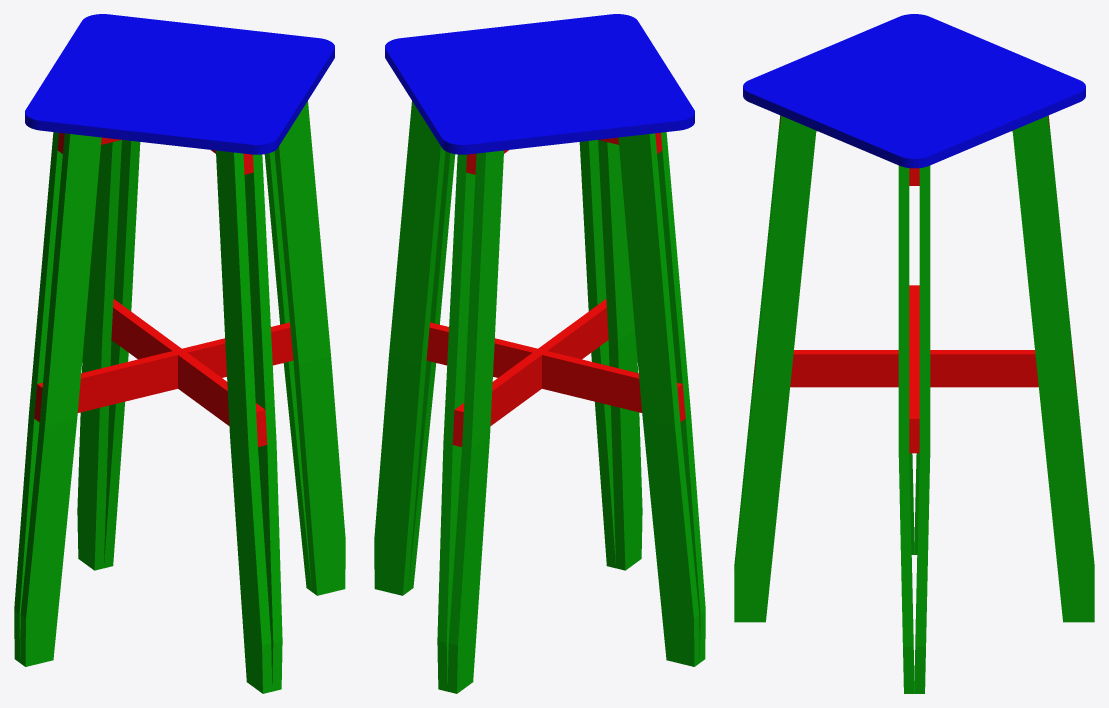
File: result.glb
3 views of the same model, side by side, from view 1: azimuth 30°, elevation 25°; view 2: azimuth 150°, elevation 25°; view 3: azimuth 270°, elevation 25° (orthographic). The views are drawn at different scales.
Parts seen in each view (by area): view 1: e8bbfdf5-226b-47ca-97e6-65c9bd3bf508__undefined, d5eea0eb-c808-41b9-9d19-ef9371f39dc2__undefined, 1af58faf-e53f-4065-ae07-51e9c1b035d5__undefined, 3176cedd-69db-4ae9-ba4e-db931f14e1fb__undefined, 854334a5-3689-4466-b3cd-4e174b244cb9__Box_4, e21440cf-7ba8-4d46-9ff4-bc40672714fe__undefined, cc27549e-887c-40fa-9cbf-4172b1861f56__Box_5, c4e47e61-7f92-446c-8a29-8693201ab117__Box_6, 446e9ae4-4e5f-4b22-8e8b-798e7be17146__Box_7, c6dbea48-a40c-4cf2-99b8-346449e1d5cc__undefined, a819ed69-37d1-4a81-b4be-e70d34f1bfb9__undefined, 304fa32a-b974-4c0e-9996-f9ef1d08b9e2__undefined (+2 smaller); view 2: 304fa32a-b974-4c0e-9996-f9ef1d08b9e2__undefined, 35bf9f7e-c233-4caa-b680-e3ed452137d3__undefined, 3176cedd-69db-4ae9-ba4e-db931f14e1fb__undefined, 1af58faf-e53f-4065-ae07-51e9c1b035d5__undefined, c4e47e61-7f92-446c-8a29-8693201ab117__Box_6, cc27549e-887c-40fa-9cbf-4172b1861f56__Box_5, a819ed69-37d1-4a81-b4be-e70d34f1bfb9__undefined, 446e9ae4-4e5f-4b22-8e8b-798e7be17146__Box_7, 854334a5-3689-4466-b3cd-4e174b244cb9__Box_4, c6dbea48-a40c-4cf2-99b8-346449e1d5cc__undefined, e21440cf-7ba8-4d46-9ff4-bc40672714fe__undefined, e8bbfdf5-226b-47ca-97e6-65c9bd3bf508__undefined (+2 smaller); view 3: a819ed69-37d1-4a81-b4be-e70d34f1bfb9__undefined, e21440cf-7ba8-4d46-9ff4-bc40672714fe__undefined, c4e47e61-7f92-446c-8a29-8693201ab117__Box_6, cc27549e-887c-40fa-9cbf-4172b1861f56__Box_5, d3952337-7d2e-44aa-a7a4-48b37a727413__undefined, 446e9ae4-4e5f-4b22-8e8b-798e7be17146__Box_7, 854334a5-3689-4466-b3cd-4e174b244cb9__Box_4, d5eea0eb-c808-41b9-9d19-ef9371f39dc2__undefined, 35bf9f7e-c233-4caa-b680-e3ed452137d3__undefined, c6dbea48-a40c-4cf2-99b8-346449e1d5cc__undefined, 3176cedd-69db-4ae9-ba4e-db931f14e1fb__undefined, 1af58faf-e53f-4065-ae07-51e9c1b035d5__undefined.
Part boxes in pixels (left/top/right/bottom): e8bbfdf5-226b-47ca-97e6-65c9bd3bf508__undefined: left=20, top=133, right=101, bottom=666; d5eea0eb-c808-41b9-9d19-ef9371f39dc2__undefined: left=274, top=101, right=345, bottom=595; 1af58faf-e53f-4065-ae07-51e9c1b035d5__undefined: left=216, top=150, right=272, bottom=693; 3176cedd-69db-4ae9-ba4e-db931f14e1fb__undefined: left=77, top=140, right=121, bottom=570; 854334a5-3689-4466-b3cd-4e174b244cb9__Box_4: left=25, top=95, right=286, bottom=154; e21440cf-7ba8-4d46-9ff4-bc40672714fe__undefined: left=244, top=154, right=282, bottom=691; cc27549e-887c-40fa-9cbf-4172b1861f56__Box_5: left=35, top=65, right=305, bottom=133; c4e47e61-7f92-446c-8a29-8693201ab117__Box_6: left=54, top=35, right=325, bottom=102; 446e9ae4-4e5f-4b22-8e8b-798e7be17146__Box_7: left=73, top=14, right=334, bottom=72; c6dbea48-a40c-4cf2-99b8-346449e1d5cc__undefined: left=34, top=322, right=293, bottom=422; a819ed69-37d1-4a81-b4be-e70d34f1bfb9__undefined: left=104, top=140, right=140, bottom=568; 304fa32a-b974-4c0e-9996-f9ef1d08b9e2__undefined: left=14, top=132, right=62, bottom=662; 304fa32a-b974-4c0e-9996-f9ef1d08b9e2__undefined: left=618, top=133, right=699, bottom=666; 35bf9f7e-c233-4caa-b680-e3ed452137d3__undefined: left=374, top=101, right=445, bottom=595; 3176cedd-69db-4ae9-ba4e-db931f14e1fb__undefined: left=447, top=150, right=503, bottom=693; 1af58faf-e53f-4065-ae07-51e9c1b035d5__undefined: left=598, top=140, right=642, bottom=570; c4e47e61-7f92-446c-8a29-8693201ab117__Box_6: left=434, top=26, right=573, bottom=150; cc27549e-887c-40fa-9cbf-4172b1861f56__Box_5: left=506, top=18, right=645, bottom=142; a819ed69-37d1-4a81-b4be-e70d34f1bfb9__undefined: left=437, top=154, right=475, bottom=691; 446e9ae4-4e5f-4b22-8e8b-798e7be17146__Box_7: left=385, top=34, right=501, bottom=154; 854334a5-3689-4466-b3cd-4e174b244cb9__Box_4: left=578, top=14, right=694, bottom=134; c6dbea48-a40c-4cf2-99b8-346449e1d5cc__undefined: left=426, top=322, right=685, bottom=422; e21440cf-7ba8-4d46-9ff4-bc40672714fe__undefined: left=579, top=140, right=615, bottom=568; e8bbfdf5-226b-47ca-97e6-65c9bd3bf508__undefined: left=657, top=132, right=705, bottom=662; a819ed69-37d1-4a81-b4be-e70d34f1bfb9__undefined: left=1012, top=116, right=1094, bottom=622; e21440cf-7ba8-4d46-9ff4-bc40672714fe__undefined: left=734, top=116, right=816, bottom=622; c4e47e61-7f92-446c-8a29-8693201ab117__Box_6: left=824, top=48, right=1055, bottom=155; cc27549e-887c-40fa-9cbf-4172b1861f56__Box_5: left=773, top=26, right=1003, bottom=133; d3952337-7d2e-44aa-a7a4-48b37a727413__undefined: left=753, top=350, right=1075, bottom=387; 446e9ae4-4e5f-4b22-8e8b-798e7be17146__Box_7: left=876, top=70, right=1085, bottom=168; 854334a5-3689-4466-b3cd-4e174b244cb9__Box_4: left=743, top=14, right=952, bottom=111; d5eea0eb-c808-41b9-9d19-ef9371f39dc2__undefined: left=898, top=165, right=914, bottom=693; 35bf9f7e-c233-4caa-b680-e3ed452137d3__undefined: left=914, top=165, right=930, bottom=693; c6dbea48-a40c-4cf2-99b8-346449e1d5cc__undefined: left=909, top=285, right=919, bottom=453; 3176cedd-69db-4ae9-ba4e-db931f14e1fb__undefined: left=1048, top=115, right=1094, bottom=568; 1af58faf-e53f-4065-ae07-51e9c1b035d5__undefined: left=734, top=115, right=780, bottom=568.
Size of the model in its own units: 445 by 725 by 445.
